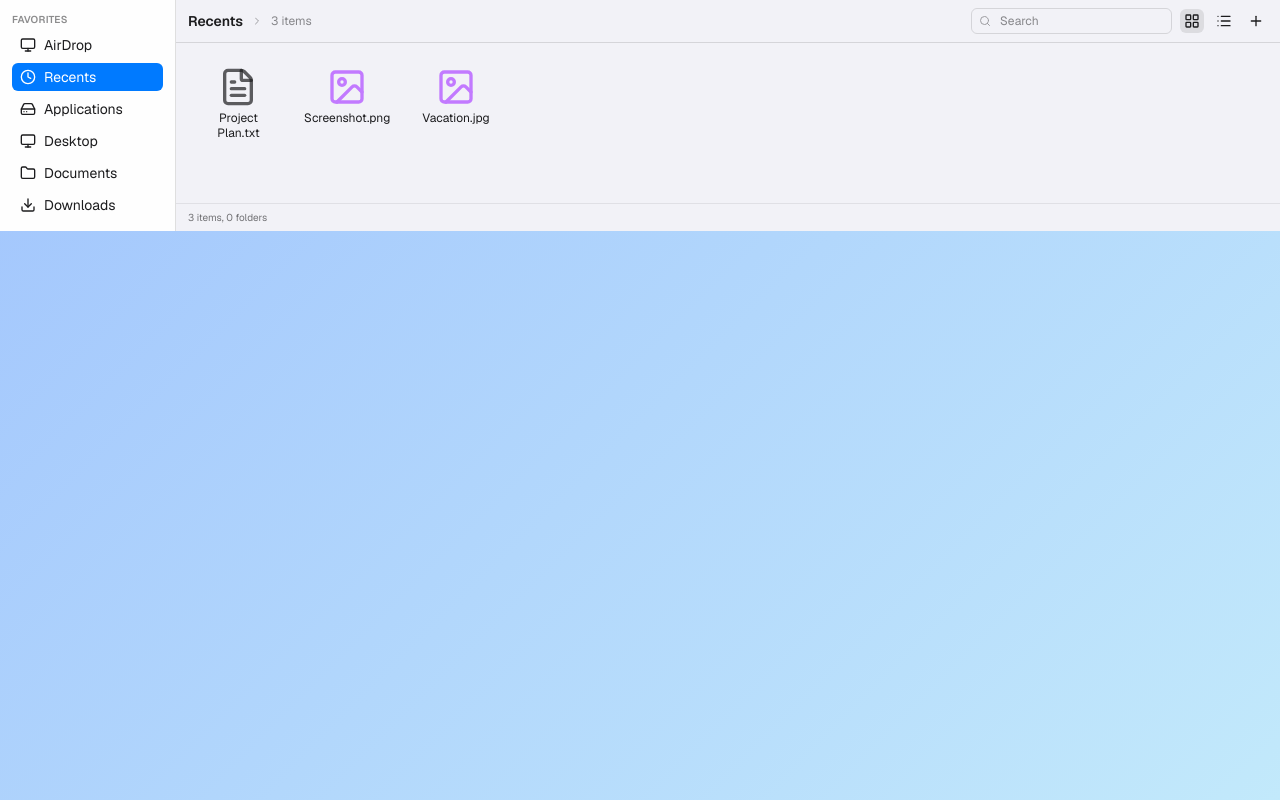
Test: Finder › selects an item when clicked
The image size is (1280, 800).
Click the button with test id "finder-item-recent-1".
click(238, 104)  # box 192,59 -> 285,149
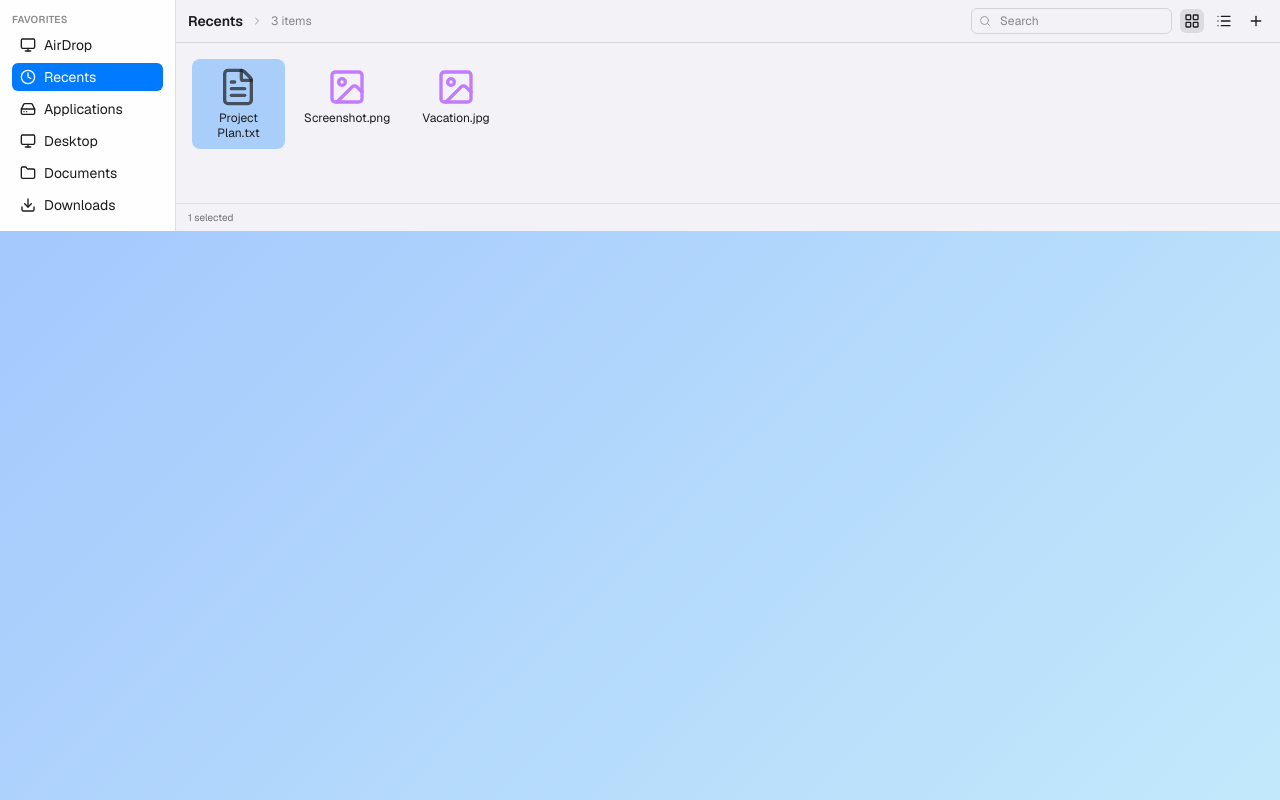
Expected: the text "1 selected" is shown, 176,203 -> 1279,231
